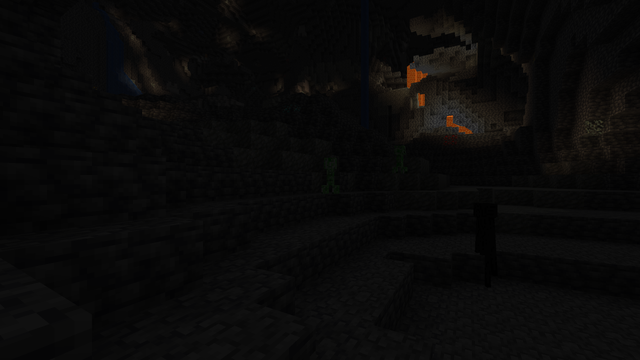creepers: (321, 155, 338, 193), (393, 143, 405, 172)
endermens: (474, 200, 495, 290)
